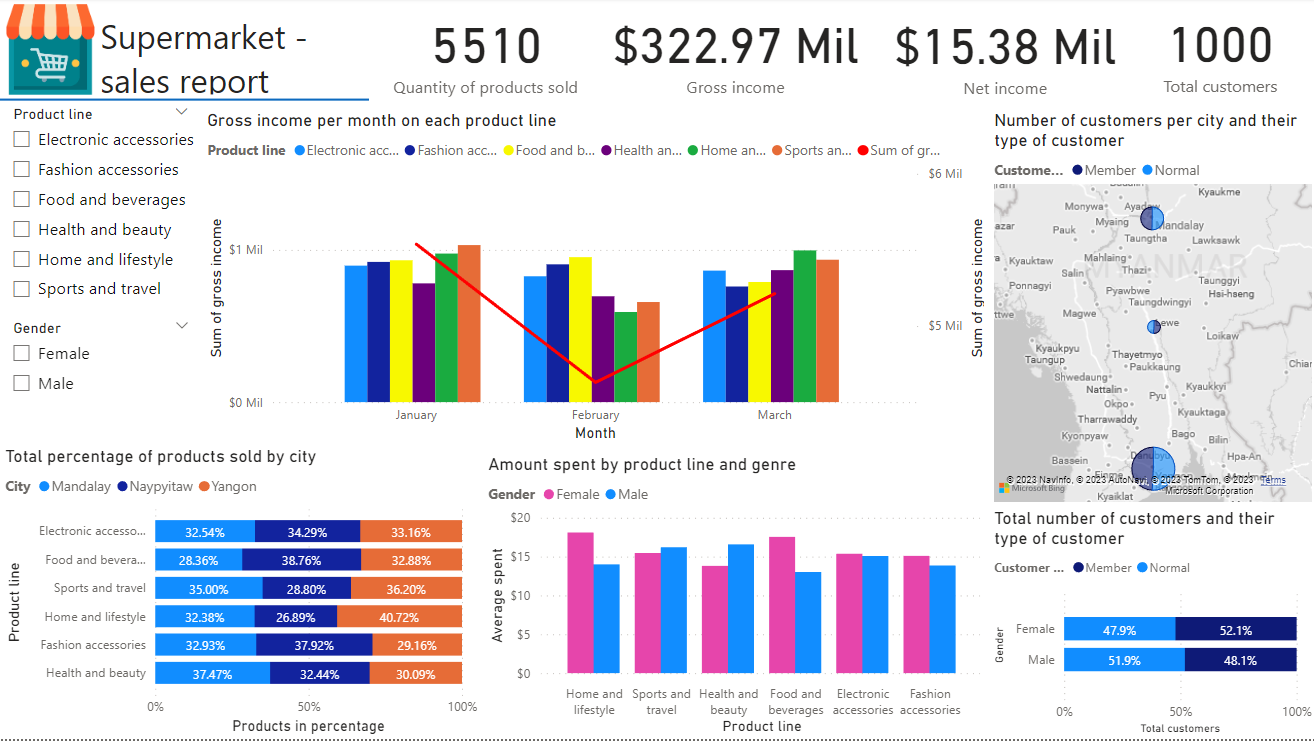

Layout of this report page (visuals, bound fields, positions):
{"tool":"powerbi","page":{"name":"Página 1","canvas":[1280,720],"ordinal":0},"visuals":[{"type":"map","title":"Number of customers per city and their type of customer","fields":{"Category":["Worksheet.City"],"Series":["Worksheet.Customer type"],"Size":["Worksheet.Total de Cliente"]},"box":[961.2,108.9,318.8,386.8],"z":0},{"type":"slicer","fields":{"Values":["Worksheet.Product line"]},"box":[0,99.6,195.6,207.4],"z":1000},{"type":"lineClusteredColumnComboChart","title":"Gross income per month on each product line","fields":{"Series":["Worksheet.Product line"],"Y2":["Sum(Worksheet.gross income)"],"Category":["BaseCalendario.Nome do Mês"],"Y":["Sum(Worksheet.gross income)"]},"box":[196.3,108.9,764.9,326.6],"z":2000},{"type":"image","box":[0,0,98.4,99.6],"z":3000},{"type":"textbox","box":[92.3,9.7,295.5,89.4],"z":4000},{"type":"shape","box":[0,77.8,358.6,41.8],"z":5000},{"type":"hundredPercentStackedBarChart","title":"Total number of customers and their type of customer","fields":{"Category":["Worksheet.Gender"],"Y":["Worksheet.Total de Cliente"],"Series":["Worksheet.Customer type"]},"box":[961,495.8,318.7,224.7],"z":6000},{"type":"card","fields":{"Values":["Worksheet.Total de Cliente"]},"box":[1091.5,0,188.5,101.1],"z":7000},{"type":"card","title":"SA","fields":{"Values":["Worksheet.Soma de Produto"]},"box":[358.6,1,227.4,100.1],"z":8000},{"type":"slicer","fields":{"Values":["Worksheet.Gender"]},"box":[0,306.8,196,128.7],"z":9000},{"type":"hundredPercentStackedBarChart","title":"Total percentage of products sold by city","fields":{"Y":["Worksheet.Soma de Produto"],"Series":["Worksheet.City"],"Category":["Worksheet.Product line"]},"box":[0,435.4,469.4,284.8],"z":10000},{"type":"card","fields":{"Values":["Sum(Worksheet.gross income)"]},"box":[863.1,3.9,228.4,97.2],"z":11000},{"type":"clusteredColumnChart","title":"Amount spent by product line and genre","fields":{"Category":["Worksheet.Product line"],"Y":["Avg(Worksheet.gross income)"],"Series":["Worksheet.Gender"]},"box":[469.4,443.2,491.8,277],"z":12000},{"type":"card","fields":{"Values":["Worksheet.ValorBruto"]},"box":[567.6,1,295.5,100.1],"z":13000}]}

Visuals, with their boxes in screenshot pixels (x1, y1, x2, y2), scaled from the page's 1280x720 canvas onto the 1314x741 screenshot:
"Number of customers per city and their type of customer" map: rect(987, 112, 1313, 510)
slicer - Worksheet.Product line: rect(0, 103, 201, 316)
"Gross income per month on each product line" lineClusteredColumnComboChart: rect(202, 112, 987, 448)
image: rect(0, 0, 101, 103)
textbox: rect(95, 10, 398, 102)
shape: rect(0, 80, 368, 123)
"Total number of customers and their type of customer" hundredPercentStackedBarChart: rect(987, 510, 1313, 740)
card - Worksheet.Total de Cliente: rect(1120, 0, 1313, 104)
"SA" card: rect(368, 1, 602, 104)
slicer - Worksheet.Gender: rect(0, 316, 201, 448)
"Total percentage of products sold by city" hundredPercentStackedBarChart: rect(0, 448, 482, 740)
card - Sum(Worksheet.gross income): rect(886, 4, 1120, 104)
"Amount spent by product line and genre" clusteredColumnChart: rect(482, 456, 987, 740)
card - Worksheet.ValorBruto: rect(583, 1, 886, 104)
